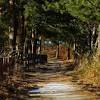forest: (1, 2, 100, 98)
